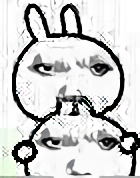dragon: (43, 134, 118, 178), (30, 55, 114, 94)
